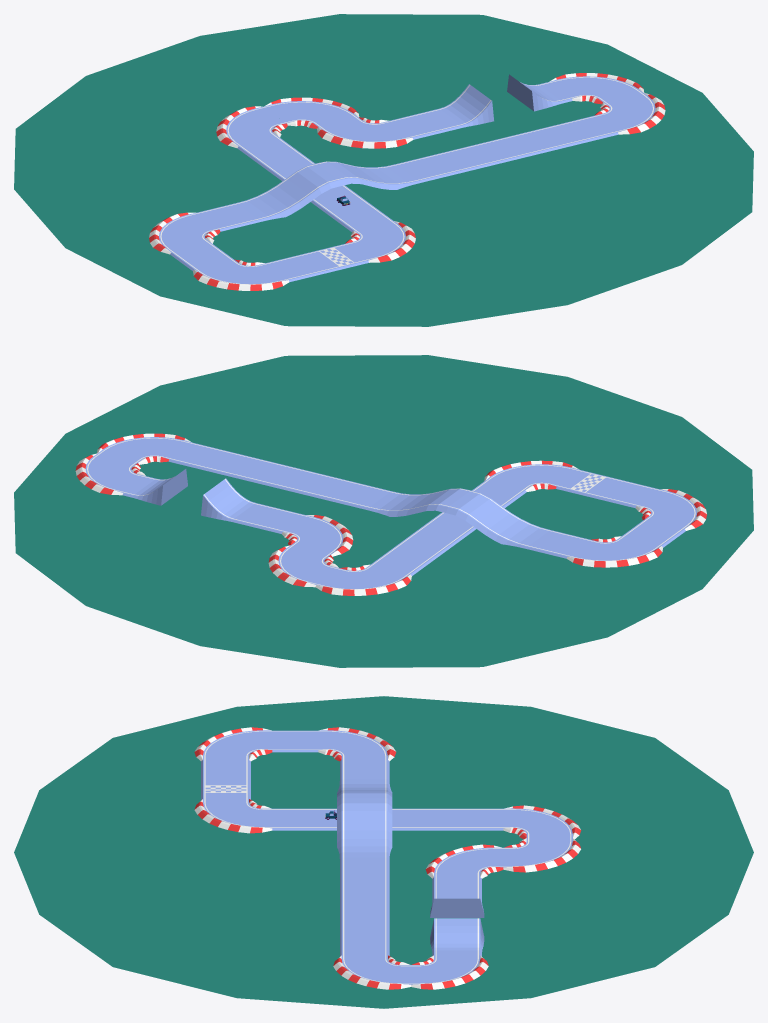
Rendered from race_course-TEMP-EXPORT 1.fbx.
3 renders of one model, top to bottom at view 1: azimuth 30°, elevation 25°; view 2: azimuth 150°, elevation 25°; view 3: azimuth 270°, elevation 25°, orthographic.
Parts seen in each view (by area): view 1: Plane ground, road straight.011, road straight.007, road curve.003, road curve.004, road curve.007, road curve, road curve.005, road curve.001, road curve.002, road curve.006, road straight.006 (+11 smaller); view 2: Plane ground, road straight.011, road straight.007, road curve.005, road curve.001, road curve.006, road curve.002, road curve.004, road curve.003, road curve.007, road curve, road straight.006 (+11 smaller); view 3: Plane ground, road straight.011, road straight.006, road curve, road curve.007, road curve.006, road curve.002, road curve.004, road curve.005, road curve.001, road curve.003, road ramp.001 (+10 smaller).
Part boxes in pixels (x1,y1,x2,y2): Plane ground: [14, 14, 753, 326]; road straight.011: [396, 115, 618, 182]; road straight.007: [237, 163, 341, 221]; road curve.003: [317, 117, 413, 148]; road curve.004: [193, 259, 289, 290]; road curve.007: [594, 92, 665, 134]; road curve: [345, 221, 415, 262]; road curve.005: [149, 212, 220, 254]; road curve.001: [216, 106, 287, 147]; road curve.002: [264, 97, 359, 128]; road curve.006: [549, 73, 644, 104]; road straight.006: [316, 161, 419, 189]; Plane ground: [14, 355, 753, 667]; road straight.011: [168, 442, 390, 509]; road straight.007: [446, 490, 549, 548]; road curve.005: [566, 536, 662, 567]; road curve.001: [315, 564, 411, 595]; road curve.006: [75, 453, 145, 495]; road curve.002: [268, 545, 338, 587]; road curve.004: [635, 489, 706, 530]; road curve.003: [282, 515, 353, 556]; road curve.007: [97, 433, 191, 464]; road curve: [484, 460, 579, 491]; road straight.006: [367, 488, 470, 516]; Plane ground: [14, 696, 753, 1008]; road straight.011: [340, 857, 389, 956]; road straight.006: [337, 798, 392, 858]; road curve: [194, 799, 272, 833]; road curve.007: [333, 955, 410, 989]; road curve.006: [411, 955, 488, 989]; road curve.002: [503, 838, 580, 872]; road curve.004: [194, 727, 272, 761]; road curve.005: [318, 727, 396, 761]; road curve.001: [503, 805, 581, 839]; road curve.003: [425, 844, 503, 878]; road ramp.001: [430, 918, 484, 956].
Size of the model in its own units: 160 by 6.56 by 160.
